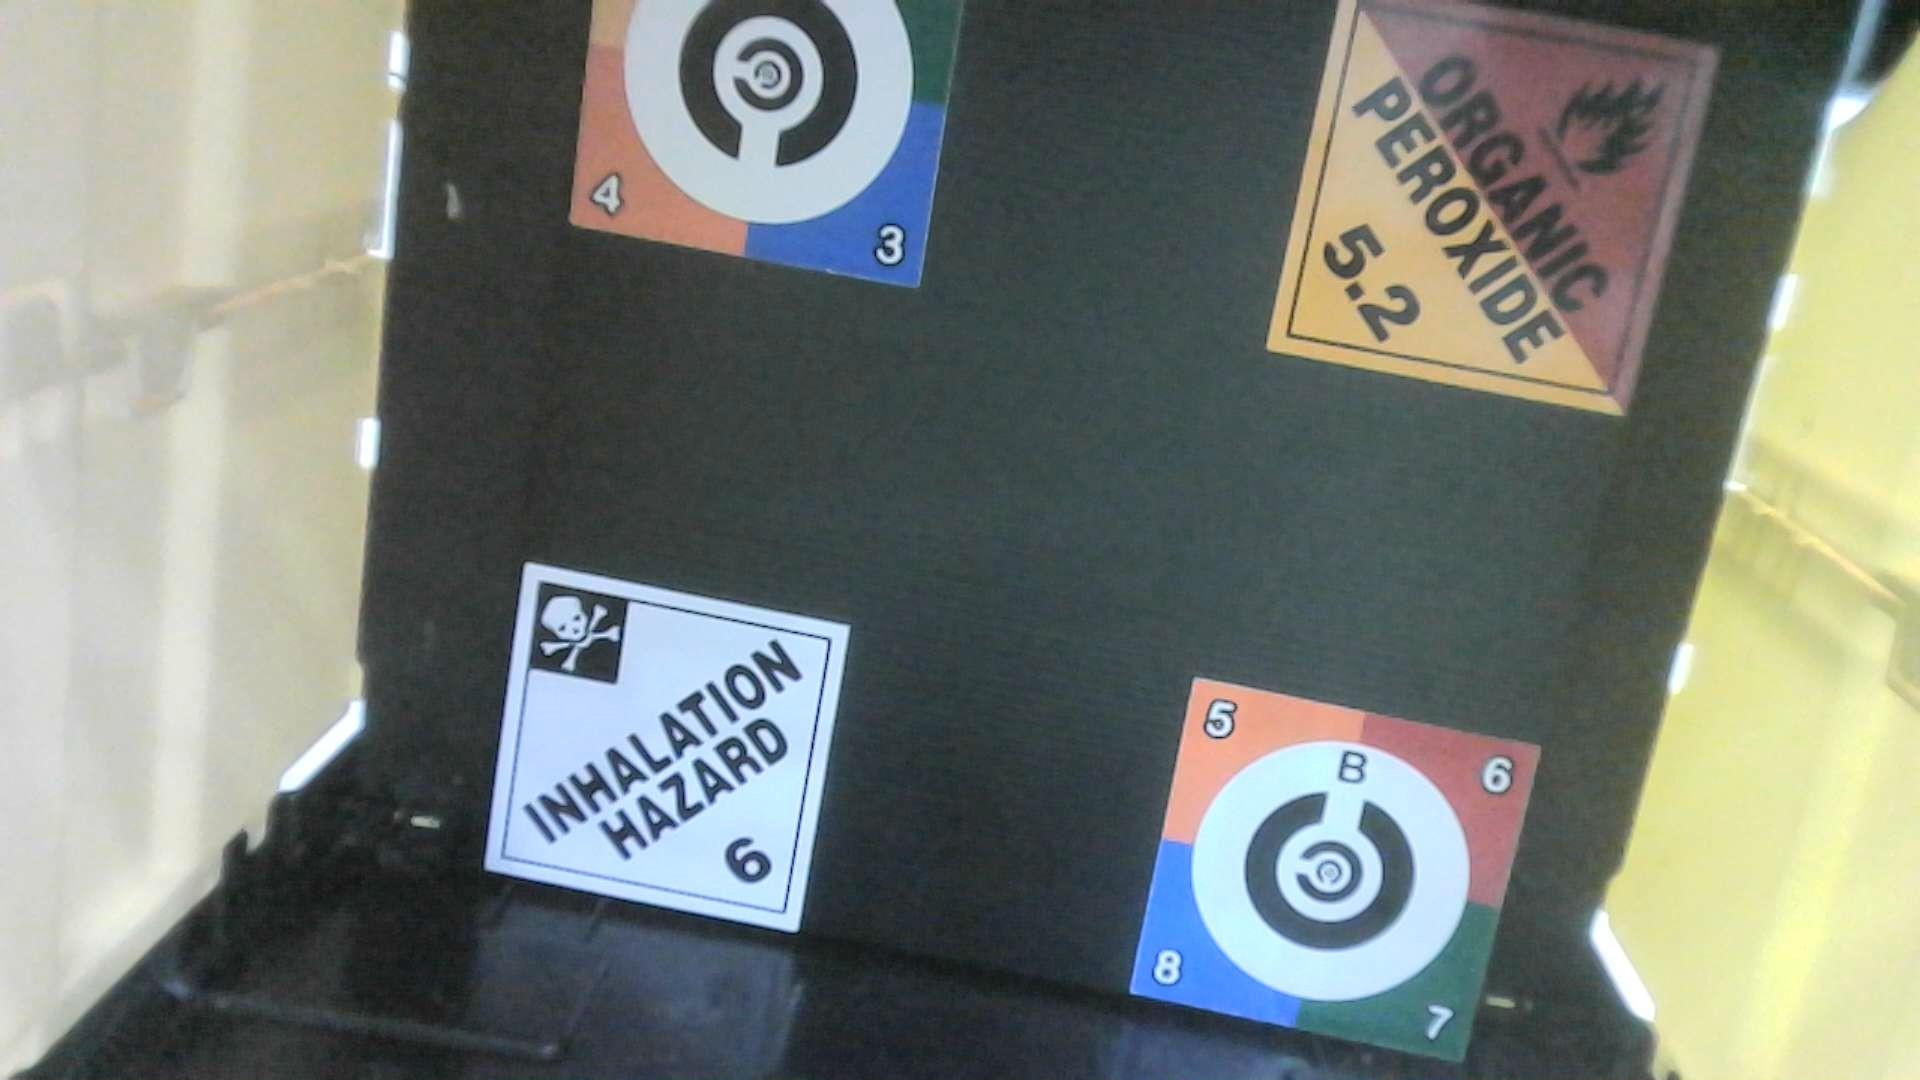organic-peroxide: (1262, 1, 1724, 421)
poison: (483, 563, 864, 945)
